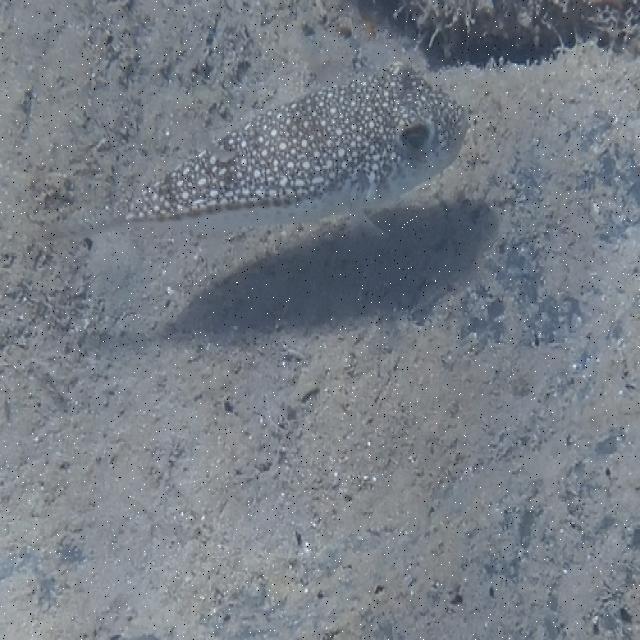Balik: (126, 64, 467, 230)
